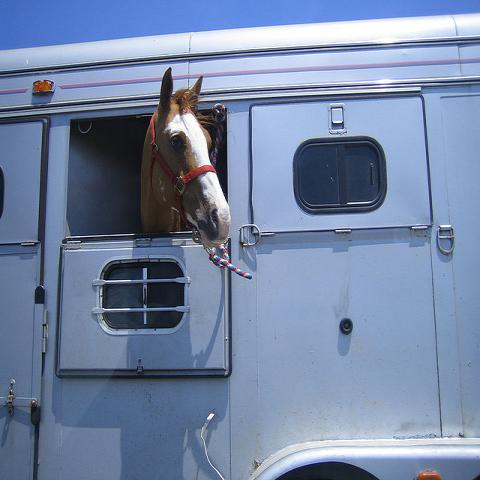truck: (2, 10, 480, 472)
